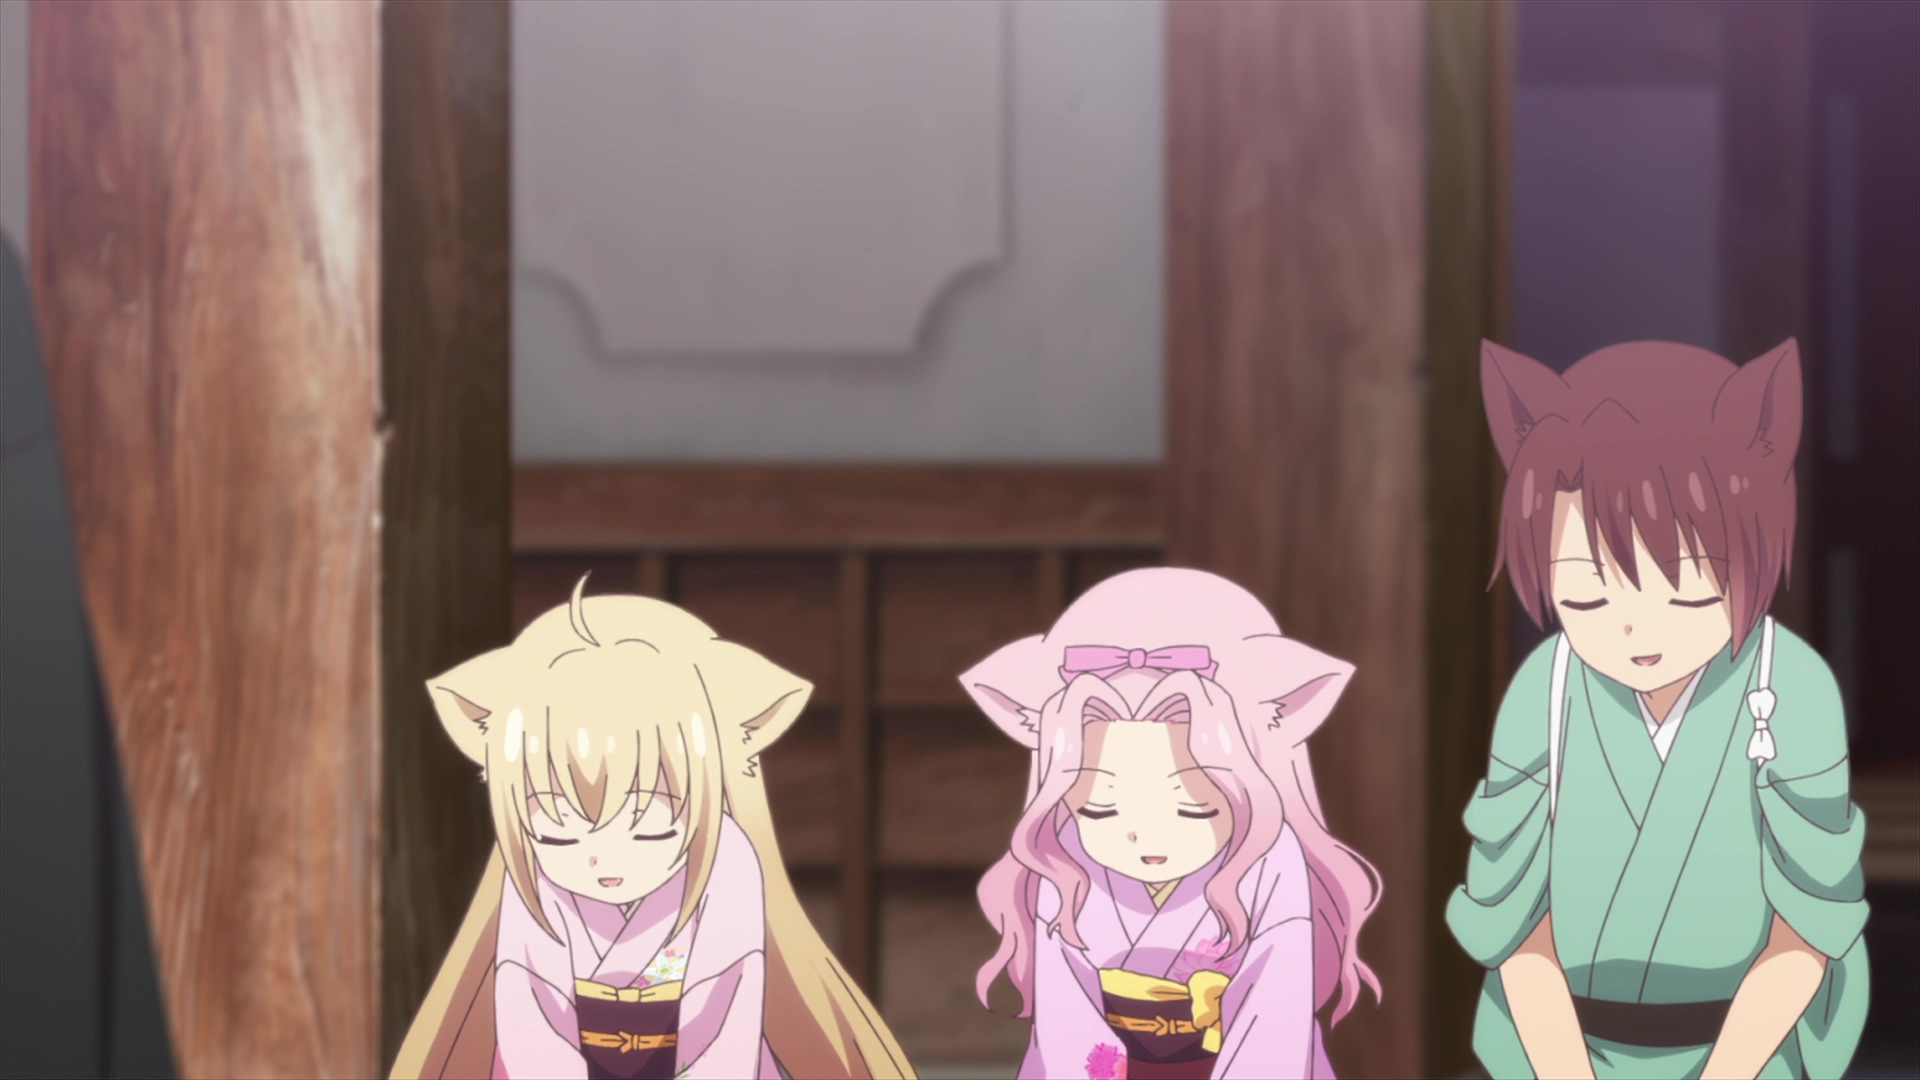枣: (1443, 338, 1870, 1080)
柚: (380, 568, 911, 1080)
莲: (956, 564, 1382, 1080)
